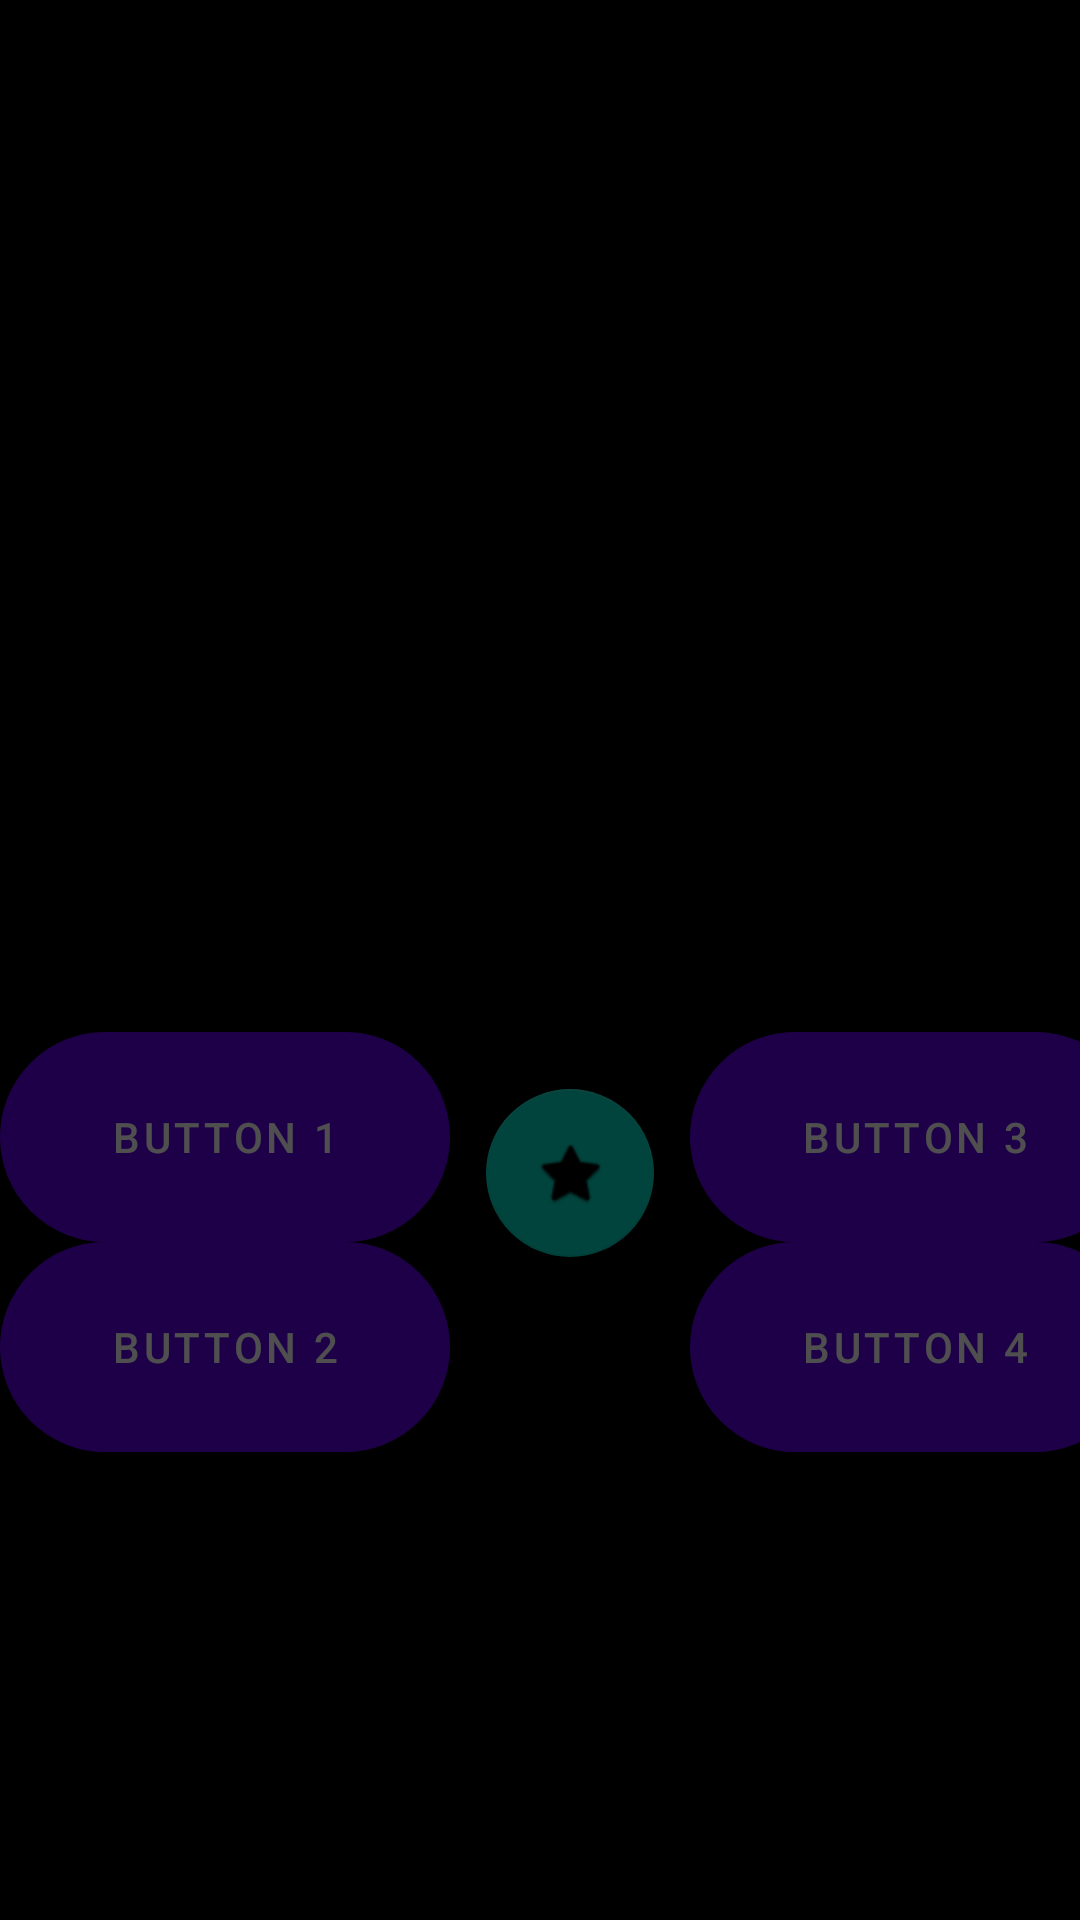

Point at icon controls on the screen. Image size 1080×1920, points as (x=x, y=y).
star on: (x=570, y=1173)
